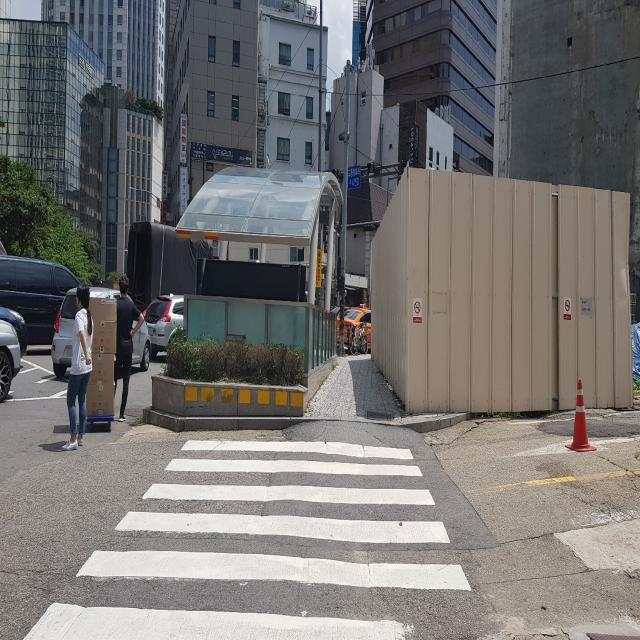횡단보도: (22, 438, 476, 640)
